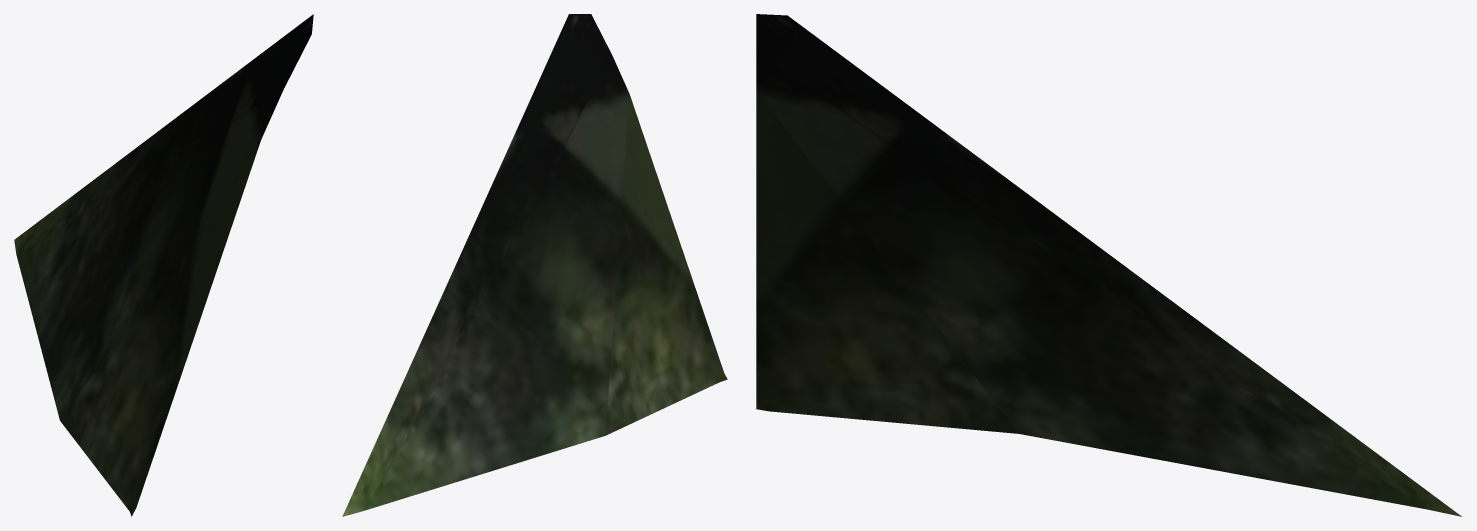
The picture shows the model from 3 angles, left to right: view 1: azimuth 30°, elevation 25°; view 2: azimuth 150°, elevation 25°; view 3: azimuth 270°, elevation 25°; orthographic projection. The views are drawn at different scales.
Size of the model in its own units: 1.8 by 3.9 by 4.98.
Materials: 1 (1 with a texture image).
